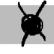not correct: (13, 1, 50, 47)
